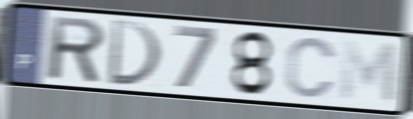7: (171, 23, 221, 93)
8: (231, 29, 274, 97)
C: (283, 35, 340, 101)
D: (104, 17, 164, 89)
M: (338, 37, 399, 107)
R: (48, 14, 107, 86)
